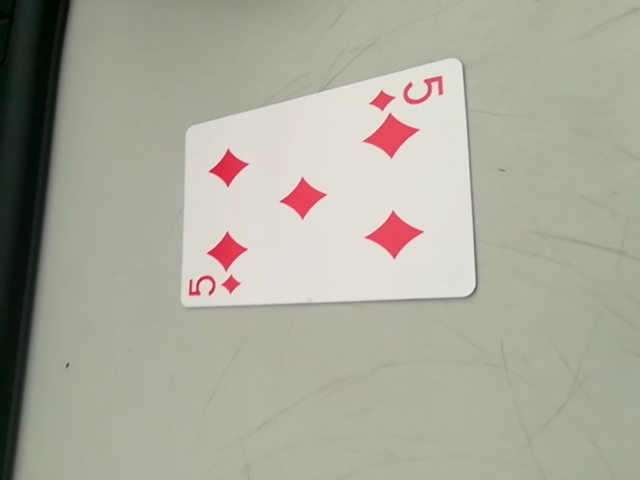fk 5: (367, 73, 451, 113), (183, 270, 245, 303)
